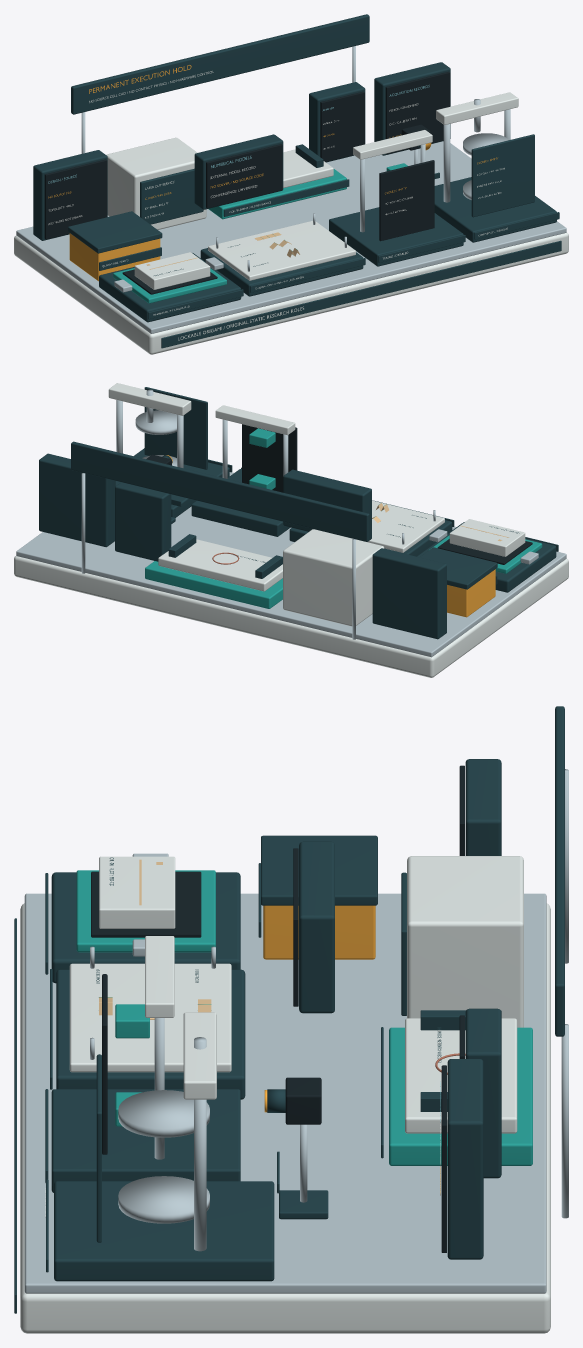
Rendered from lockable_origami_lab.glb.
The picture shows the model from 3 angles, top to bottom: view 1: azimuth 30°, elevation 25°; view 2: azimuth 150°, elevation 25°; view 3: azimuth 270°, elevation 25°; orthographic projection. The views are drawn at different scales.
Parts seen in each view (by area): view 1: bench.top, hold.panel, bench.base, fold.plate, bench.title.plate, compression.closed_guard, cut.enclosure, design.face, tension.guard_closed, numerical.face, tension.base, records.face (+26 smaller); view 2: bench.top, bench.base, hold.panel, cut.enclosure, design.body, records.body, analysis.body, reconfig.closed_cover, compression.closed_guard, numerical.body, reconfig.base, fold.plate (+16 smaller); view 3: bench.top, bench.base, cut.enclosure, compression.base, tension.base, fold.plate, records.body, reconfig.base, numerical.body, reconfig.closed_cover, carrier.base, hold.quarantine_lid (+26 smaller).
Boxes of the visible parts, box(x1,y1,x2,y2) form: bench.top: box(16, 141, 566, 333); hold.panel: box(71, 14, 369, 114); bench.base: box(14, 232, 568, 354); fold.plate: box(208, 220, 355, 280); bench.title.plate: box(161, 240, 561, 348); compression.closed_guard: box(471, 134, 534, 217); cut.enclosure: box(106, 137, 206, 229); design.face: box(44, 159, 107, 239); tension.guard_closed: box(379, 160, 434, 241); numerical.face: box(206, 144, 282, 208); tension.base: box(329, 207, 463, 266); records.face: box(385, 71, 450, 154); bench.top: box(16, 472, 566, 657); bench.base: box(14, 556, 568, 677); hold.panel: box(71, 441, 369, 541); cut.enclosure: box(283, 529, 384, 626); design.body: box(372, 548, 446, 639); records.body: box(39, 453, 115, 547); analysis.body: box(115, 482, 171, 561); reconfig.closed_cover: box(158, 539, 282, 591); compression.closed_guard: box(144, 387, 207, 469); numerical.body: box(283, 469, 371, 540); reconfig.base: box(145, 561, 282, 608); fold.plate: box(367, 500, 444, 552); bench.top: box(24, 893, 546, 1293); bench.base: box(20, 903, 550, 1333); cut.enclosure: box(407, 856, 523, 1027); compression.base: box(54, 1181, 274, 1281); tension.base: box(51, 1089, 240, 1192); fold.plate: box(69, 963, 231, 1072); records.body: box(447, 1059, 483, 1259); reconfig.base: box(389, 1027, 532, 1165); numerical.body: box(299, 841, 334, 1013); reconfig.closed_cover: box(405, 1018, 517, 1133); carrier.base: box(51, 872, 240, 983); hold.quarantine_lid: box(261, 835, 377, 905).
Bounding box in the file's own units: 2.08 × 0.72 × 1.23.
